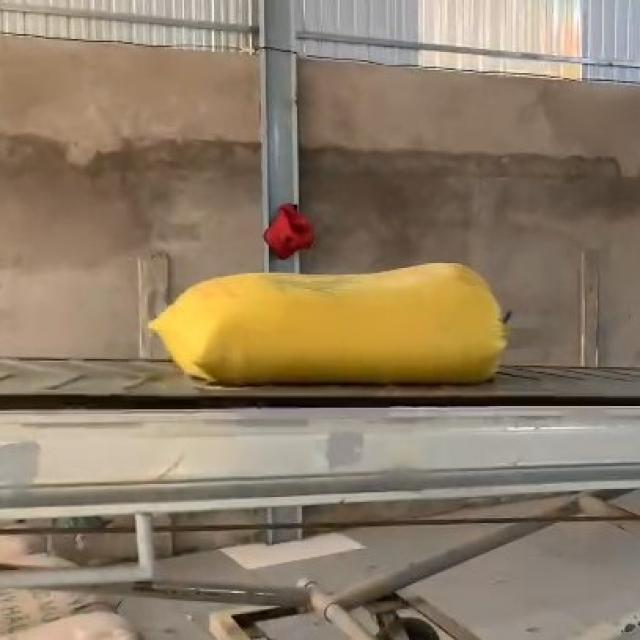gunny_bag: (151, 263, 508, 385)
